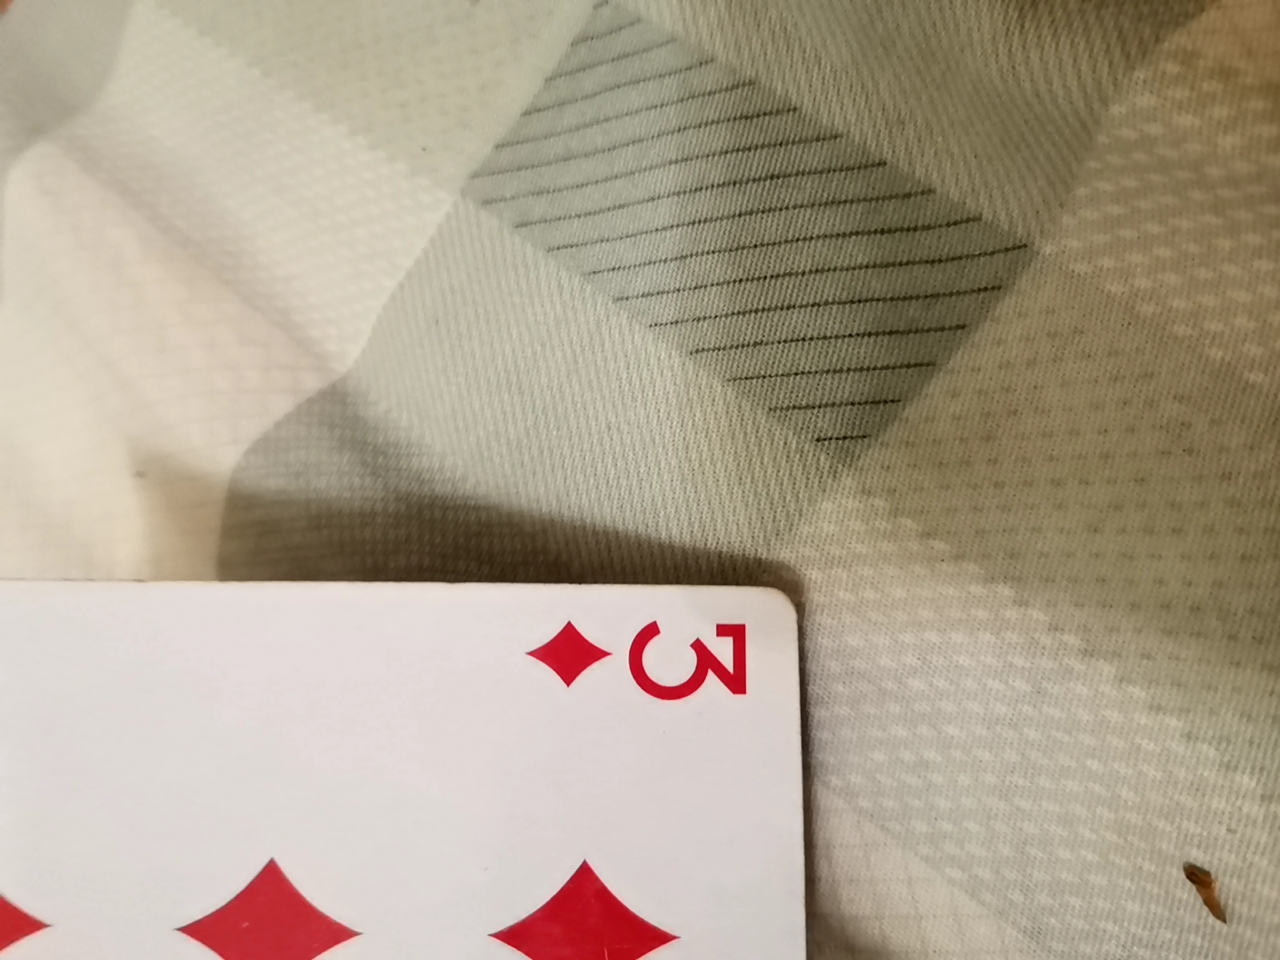fk 3: (0, 565, 825, 949)
